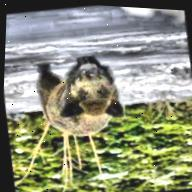boar: (23, 43, 130, 158)
